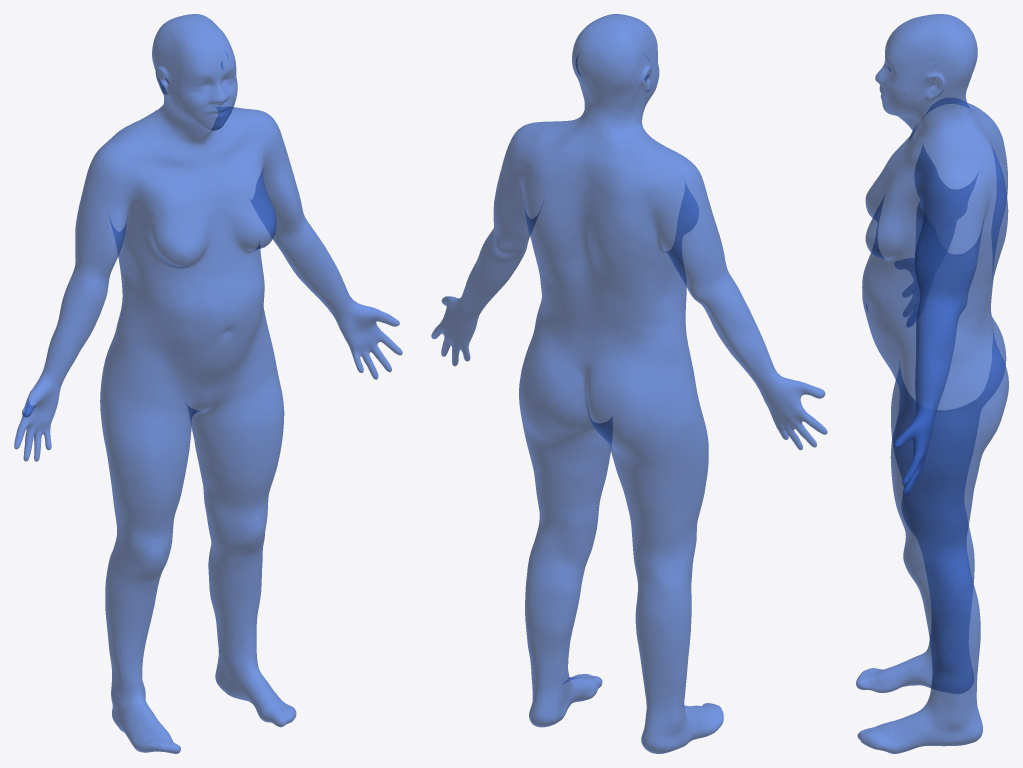
File: skin-female.lod1.glb
3 renders of one model, left to right at view 1: azimuth 30°, elevation 25°; view 2: azimuth 150°, elevation 25°; view 3: azimuth 270°, elevation 25°, orthographic.
Visible parts, largest first — view 1: VH_F_skin; view 2: VH_F_skin; view 3: VH_F_skin.
Boxes of the visible parts, x1=… form: VH_F_skin: x1=14, y1=14, x2=402, y2=753; VH_F_skin: x1=431, y1=14, x2=827, y2=753; VH_F_skin: x1=856, y1=14, x2=1008, y2=753.
Size of the model in its own units: 0.9618 by 1.66 by 0.327.
